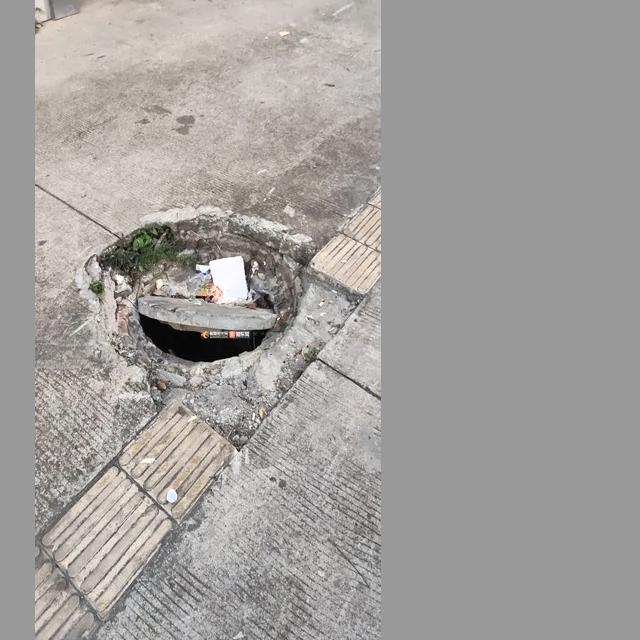circle: (65, 200, 348, 434)
